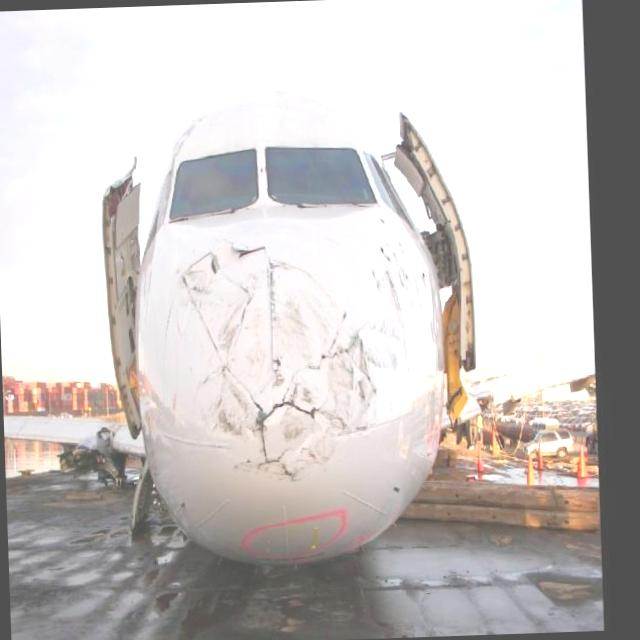crack: (170, 234, 380, 486)
